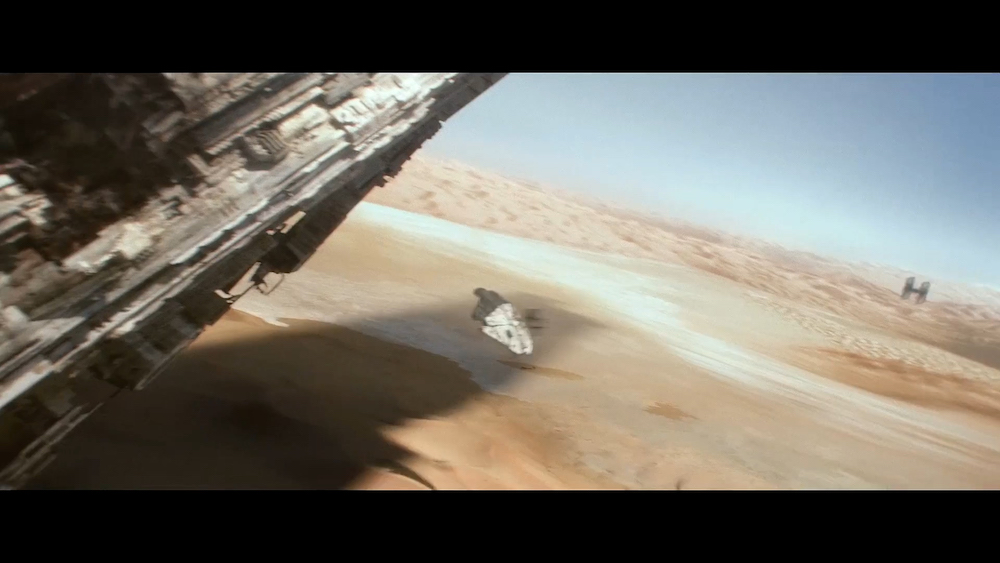Millennium Falcon: (472, 288, 536, 357)
Tie Fighter: (900, 277, 931, 306)
